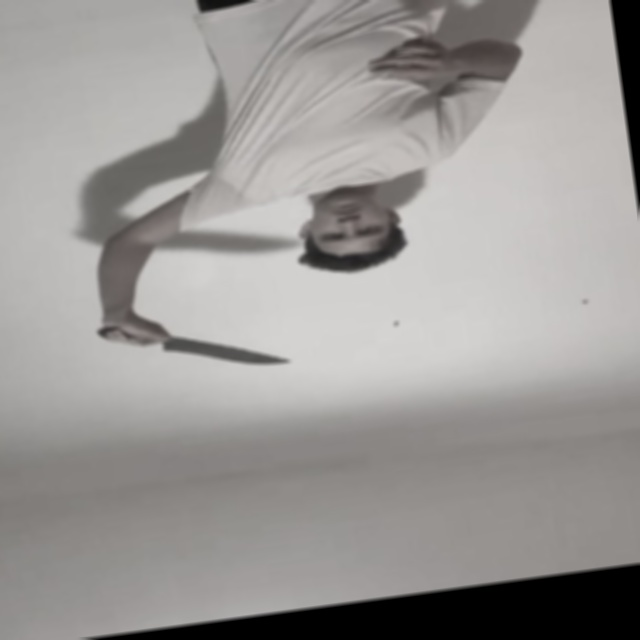Sharp-Object: (161, 327, 295, 381)
